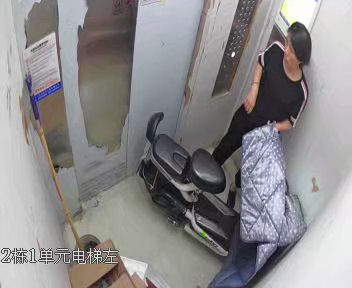Electric-bicycle: (137, 110, 296, 266)
